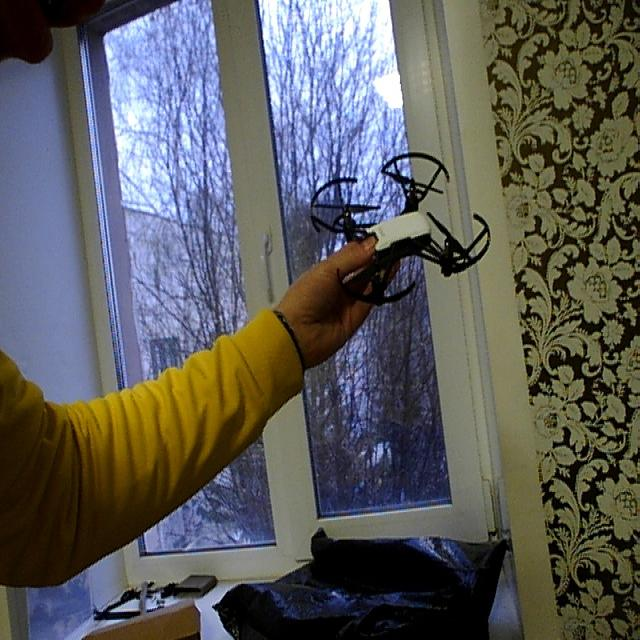drone: (306, 138, 496, 330)
